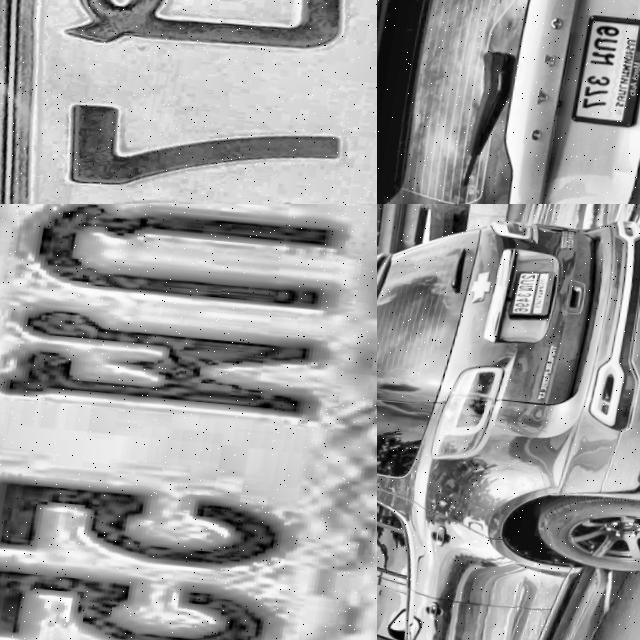license-plate: (0, 204, 377, 640), (0, 0, 377, 204), (575, 13, 640, 127), (509, 267, 558, 318)
